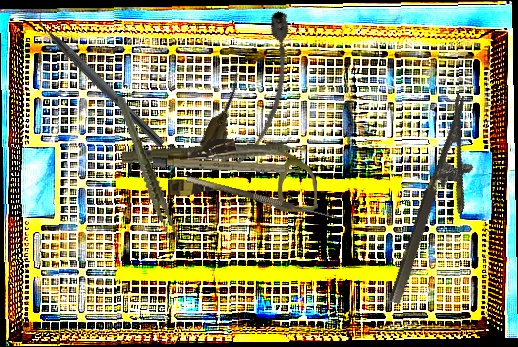Cannula: (195, 4, 317, 177), (167, 137, 318, 215)
Chopper: (27, 5, 174, 148)
Handpiece: (121, 137, 316, 172)
Hook Surgical: (186, 167, 346, 224)
Needle Holder: (386, 93, 499, 315)
Scalpel Handle: (152, 157, 304, 175)
Tissue Forceps: (115, 90, 181, 251)
